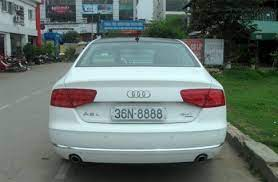Car number plates: (110, 107, 163, 120)
